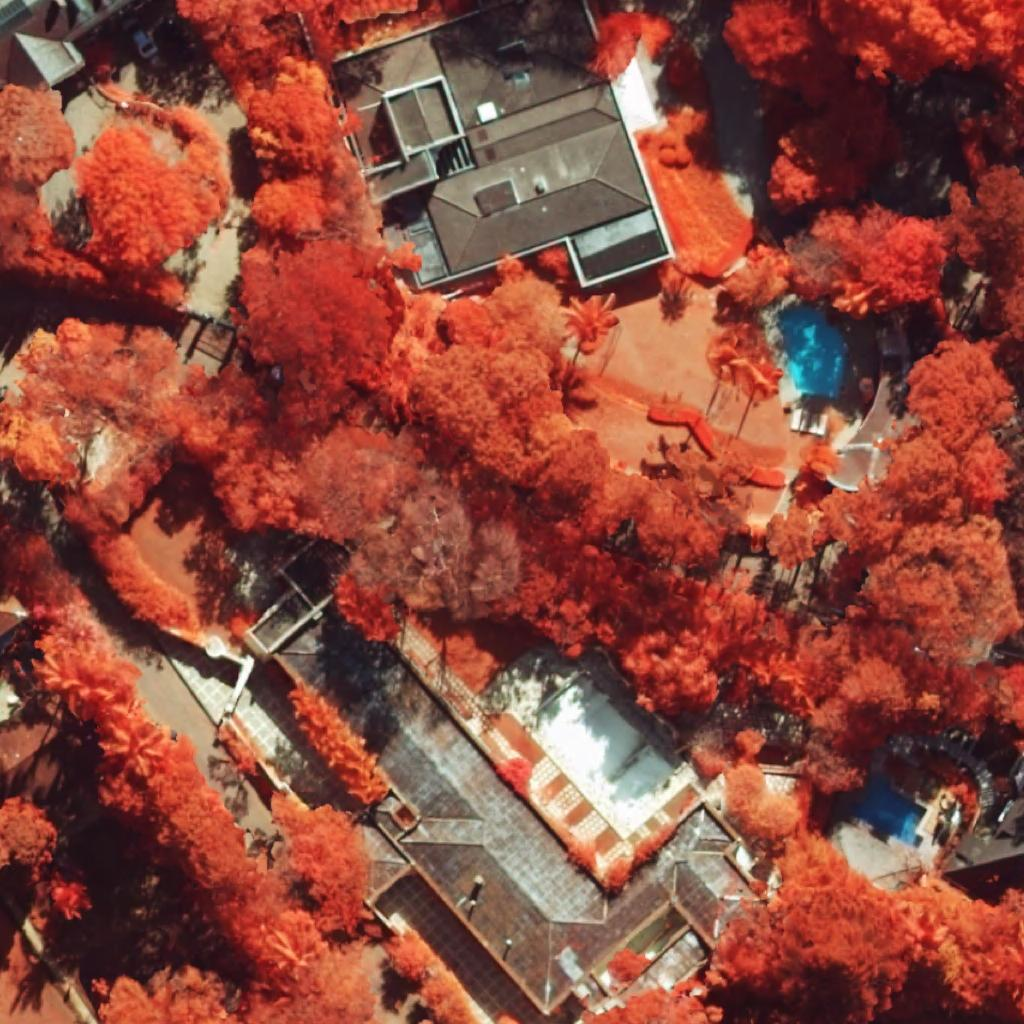pool: (779, 307, 847, 399), (850, 775, 927, 849)
